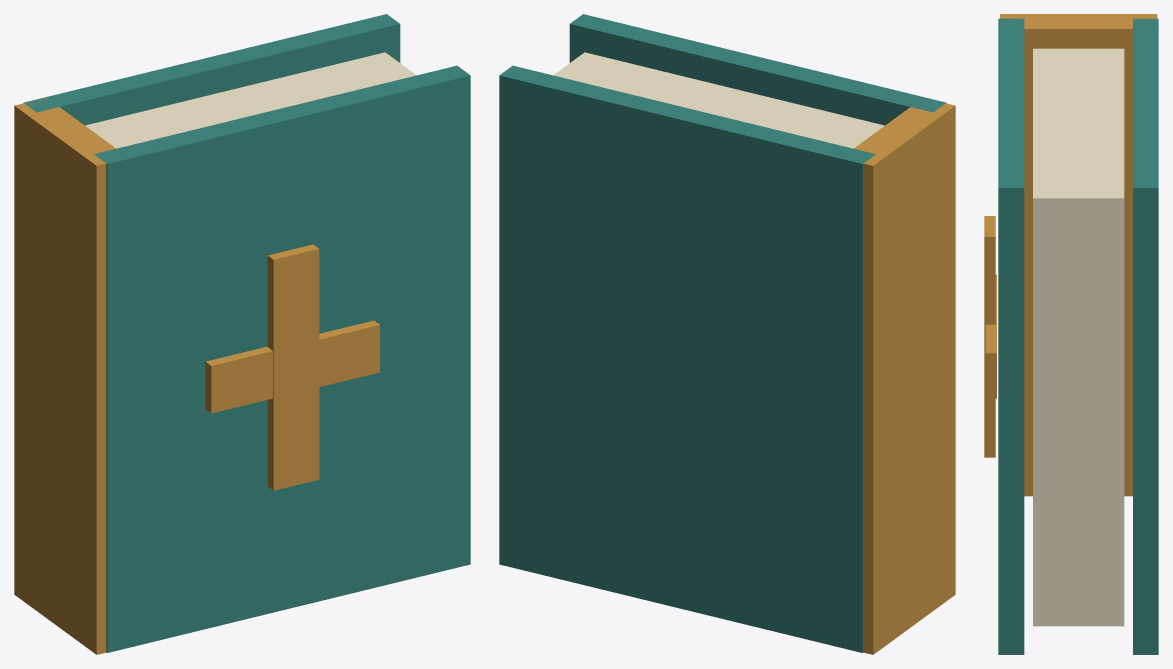
The model's file is healingBook.glb.
3 renders of one model, left to right at view 1: azimuth 30°, elevation 25°; view 2: azimuth 150°, elevation 25°; view 3: azimuth 270°, elevation 25°, orthographic. The views are drawn at different scales.
Parts seen in each view (by area): view 1: Cover, Spine, Cross, Pages; view 2: Cover, Spine, Pages; view 3: Pages, Cover, Spine, Cross.
Boxes of the visible parts, box(x1,y1,x2,y2) form: Cover: box(23, 14, 470, 652); Spine: box(14, 98, 115, 654); Cross: box(205, 244, 379, 490); Pages: box(85, 52, 416, 148); Cover: box(499, 14, 946, 652); Spine: box(854, 103, 955, 654); Pages: box(553, 52, 884, 148); Pages: box(1033, 48, 1124, 626); Cover: box(998, 18, 1158, 654); Spine: box(1000, 14, 1157, 496); Cross: box(984, 216, 996, 457).
Size of the model in its own units: 0.2875 by 0.36 by 0.122.
